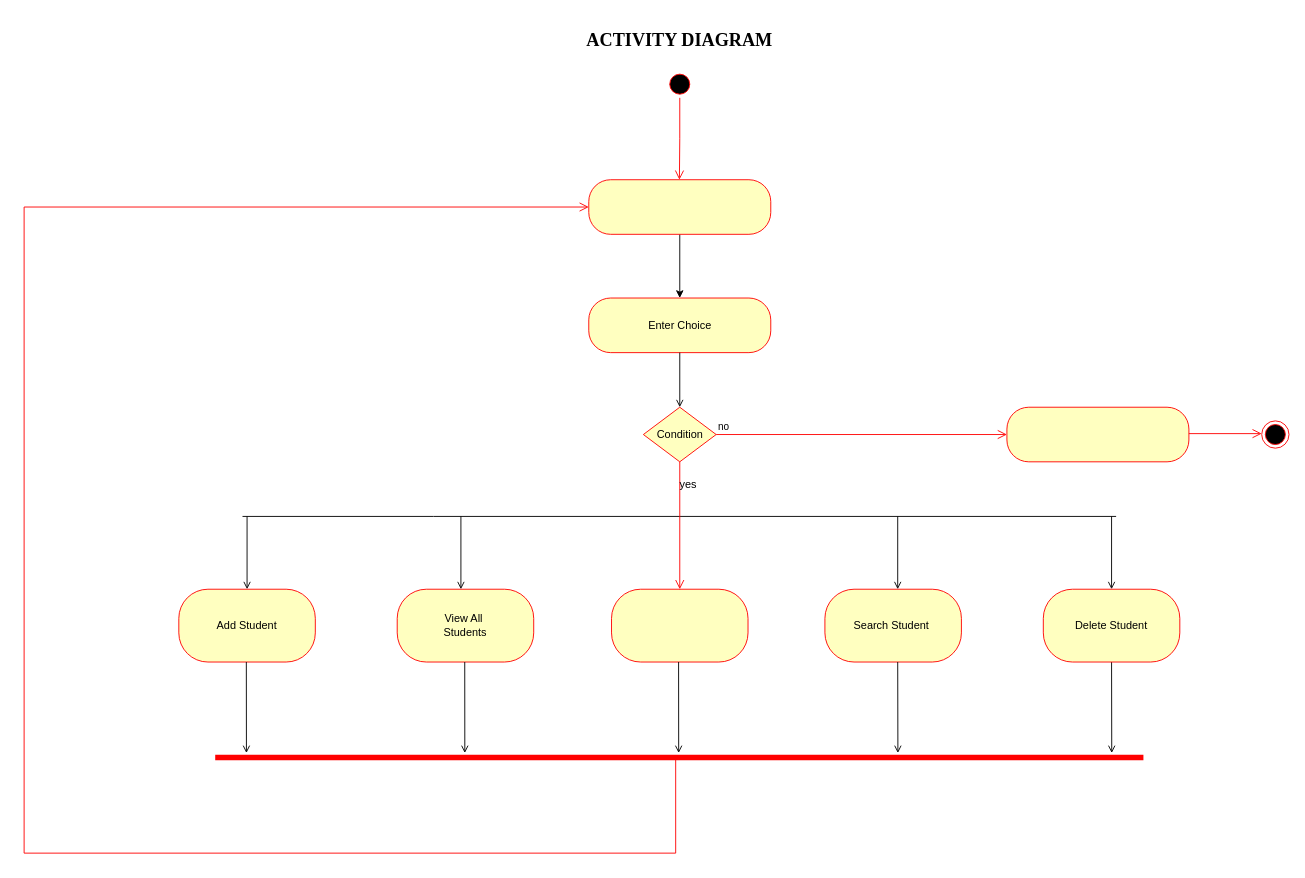
Some shapes in this 1305 by 878 pixel diagram are drawn without their labels. The shapes that lost their labels are listed below. From the top down, each one's centre as x and y in pixels, then its label:
(679,206): Show Menu
(1097,434): Display "Program Closed"
(679,625): Update Student
